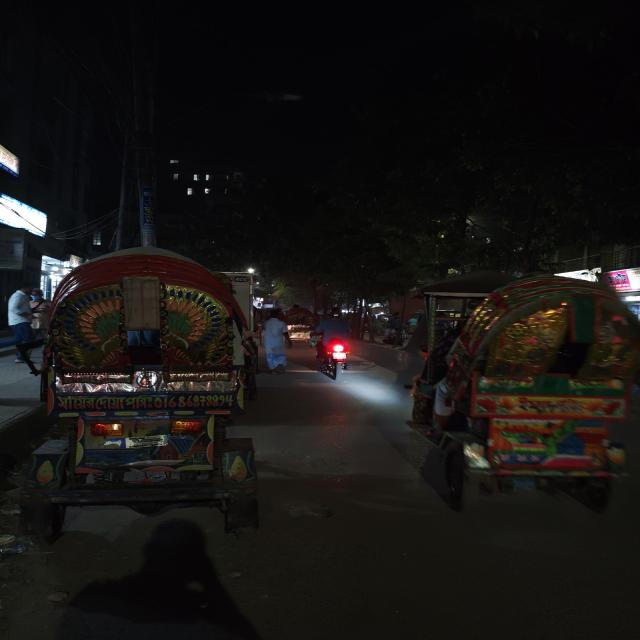motorcycle: (310, 307, 367, 382)
pedestrian: (1, 283, 42, 376), (260, 308, 291, 374)
rickshaw: (26, 243, 265, 547), (398, 265, 638, 517)
